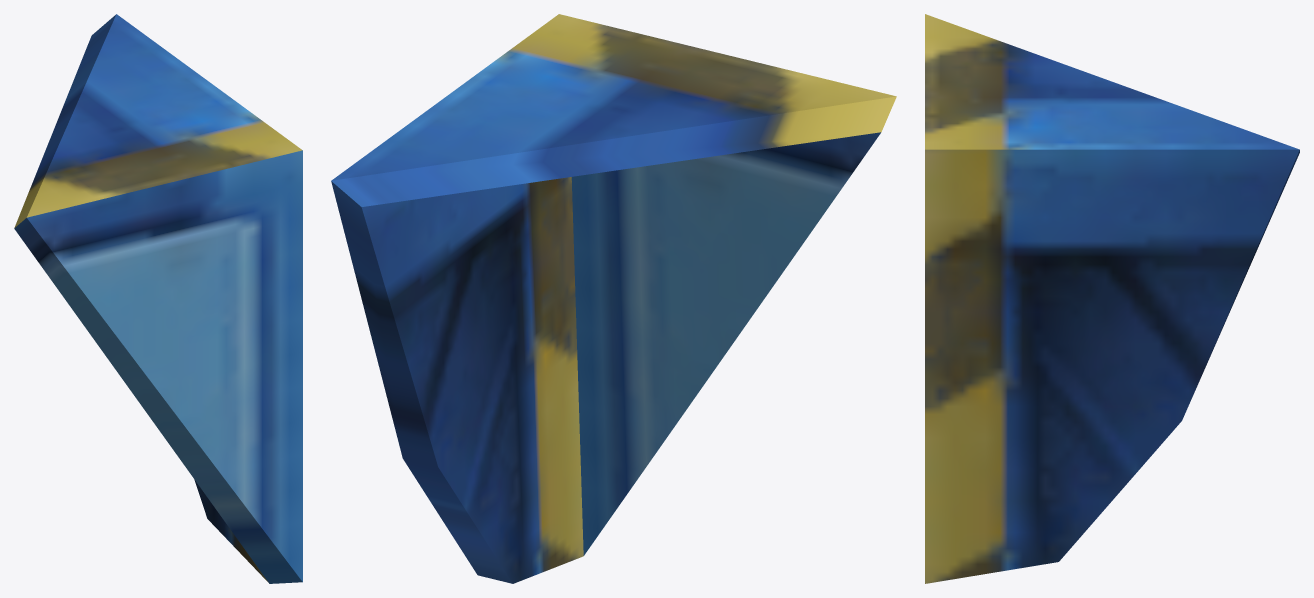
The model's file is Object01_0_c5dfaa7d__box_1_919426bf_c1f257.obj.
3 views of the same model, side by side, from view 1: azimuth 30°, elevation 25°; view 2: azimuth 150°, elevation 25°; view 3: azimuth 270°, elevation 25° (orthographic). The views are drawn at different scales.
Bounding box in the file's own units: 0.5716 × 0.8544 × 0.6679.
1 material, 1 textured.
